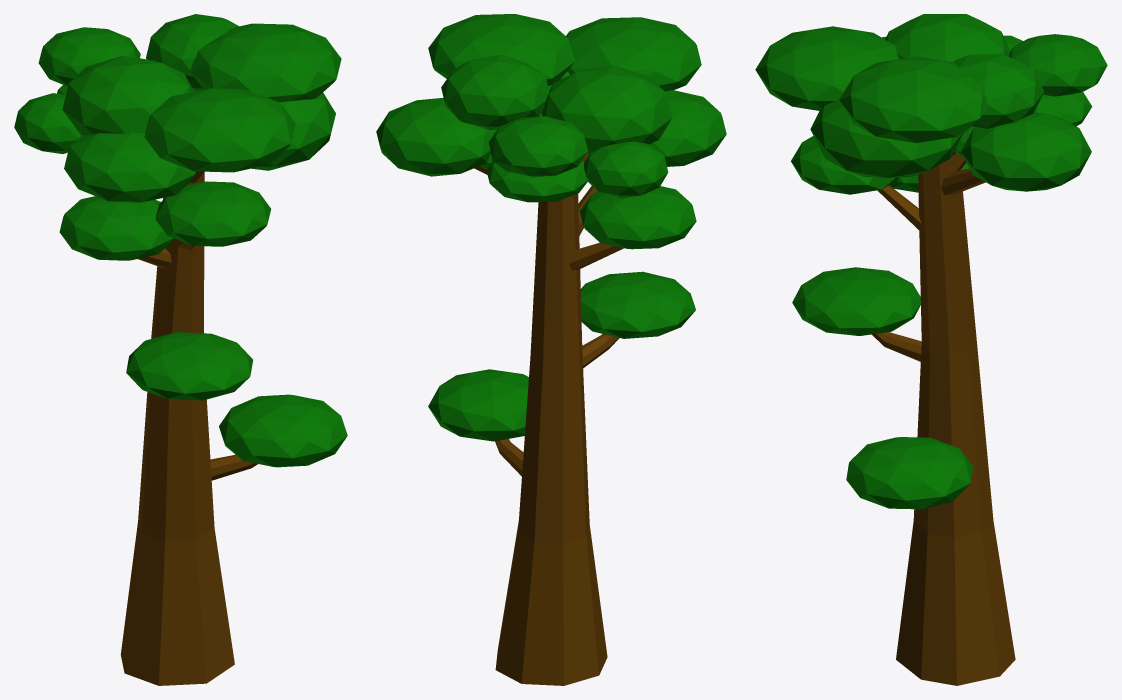
File: jungle boom 1.fbx
3 views of the same model, side by side, from view 1: azimuth 30°, elevation 25°; view 2: azimuth 150°, elevation 25°; view 3: azimuth 270°, elevation 25° (orthographic). The views are drawn at different scales.
Parts seen in each view (by area): view 1: Icosphere.002; view 2: Icosphere.002; view 3: Icosphere.002.
Part boxes in pixels (box(x1,y1,x2,y2)): Icosphere.002: box(14, 14, 347, 685); Icosphere.002: box(376, 14, 726, 685); Icosphere.002: box(755, 14, 1107, 685).
Size of the model in its own units: 4.35 by 9.38 by 4.81.
